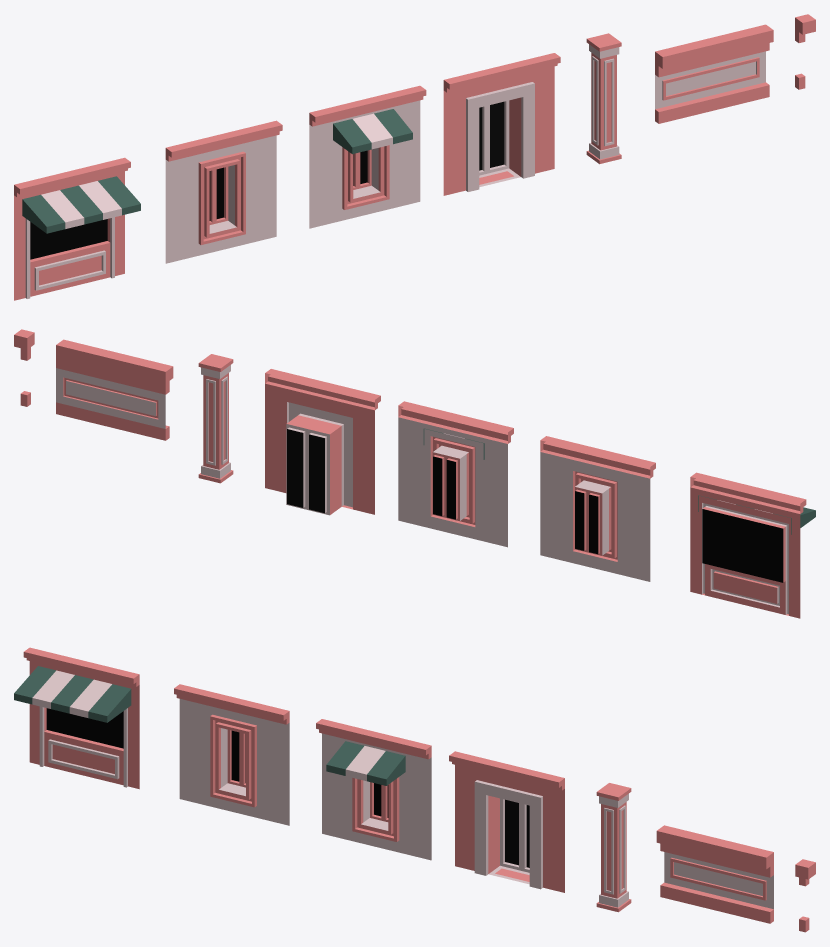
Rendered from Assets.fbx.
3 renders of one model, top to bottom at view 1: azimuth 30°, elevation 25°; view 2: azimuth 150°, elevation 25°; view 3: azimuth 330°, elevation 25°, orthographic.
Visible parts, largest first — view 1: G-Windows, G-Door, window1, window2, Roof, Pillar, Roof Corner; view 2: G-Door, G-Windows, window1, window2, Roof, Pillar, Roof Corner; view 3: G-Windows, window1, G-Door, window2, Roof, Pillar, Roof Corner.
Part boxes in pixels (<box>): G-Windows: <box>14,157,140,300</box>; G-Door: <box>443,53,560,195</box>; window1: <box>165,120,282,263</box>; window2: <box>309,85,426,228</box>; Roof: <box>655,24,773,123</box>; Pillar: <box>586,33,621,164</box>; Roof Corner: <box>795,14,815,89</box>; G-Door: <box>265,369,380,515</box>; G-Windows: <box>690,472,815,618</box>; window1: <box>540,436,655,581</box>; window2: <box>398,401,513,547</box>; Roof: <box>56,339,173,440</box>; Pillar: <box>198,354,233,483</box>; Roof Corner: <box>14,329,34,406</box>; G-Windows: <box>14,647,139,789</box>; window1: <box>174,684,289,825</box>; G-Door: <box>449,751,564,892</box>; window2: <box>316,719,431,860</box>; Roof: <box>656,825,773,923</box>; Pillar: <box>596,783,631,912</box>; Roof Corner: <box>795,859,815,932</box>.
Size of the model in its own units: 716 by 100 by 59.86.
